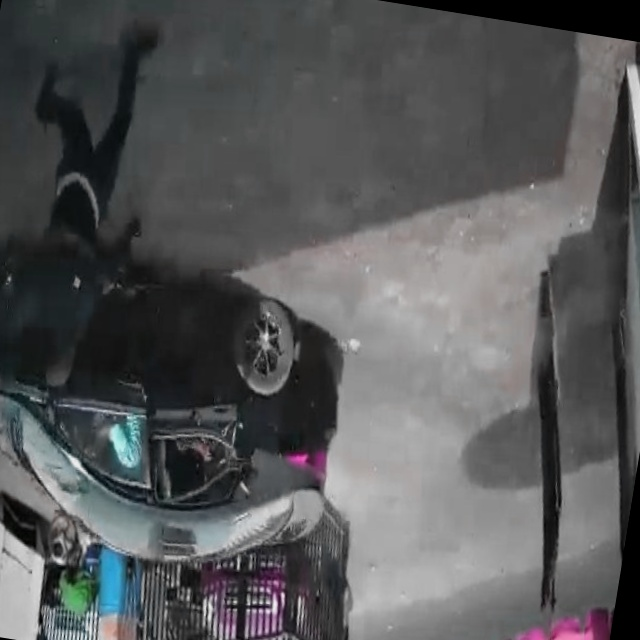gun: (71, 206, 174, 314), (187, 439, 259, 493)
